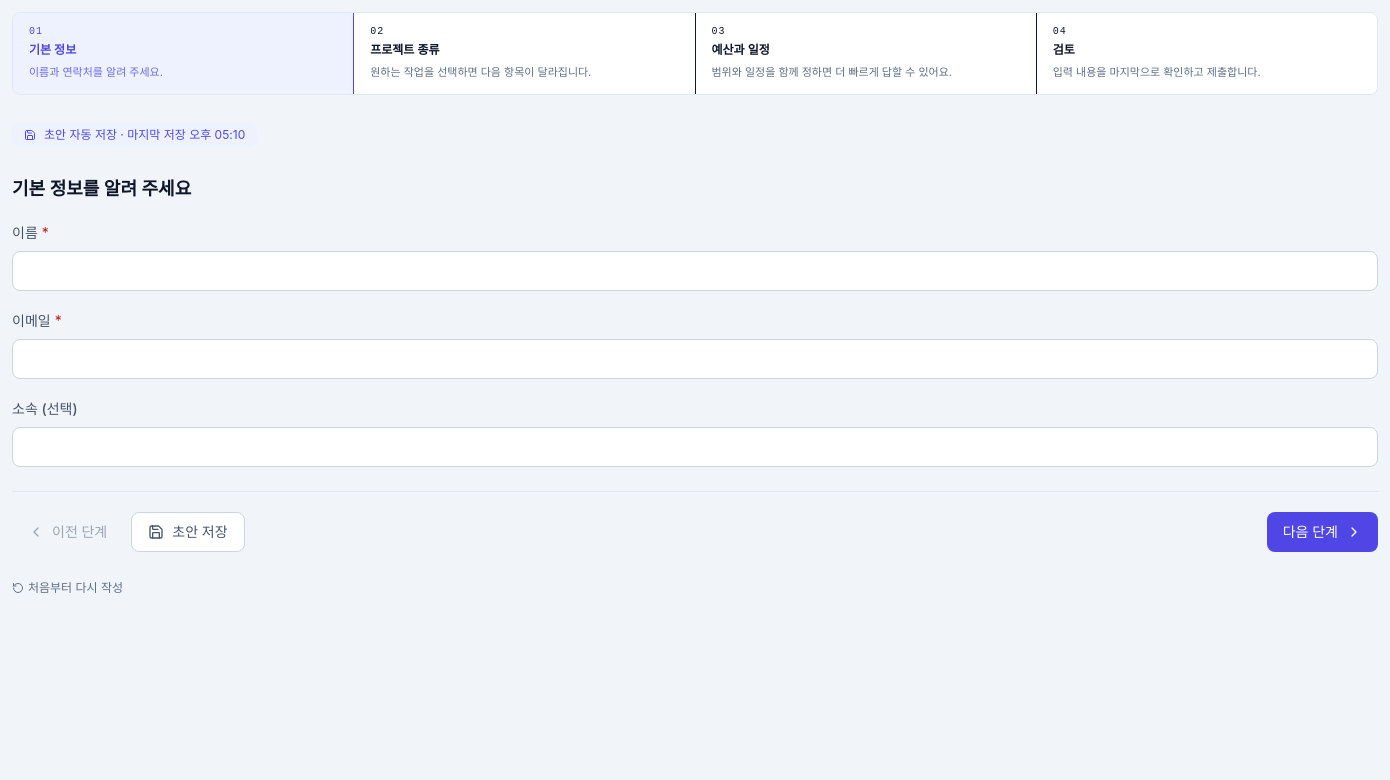
Test: 기본 정보를 채우면 다음 단계의 제목이 나타난다
Type "샘플" into the field labelled "이름". click: (695, 271)
box: [12,251,1378,291]
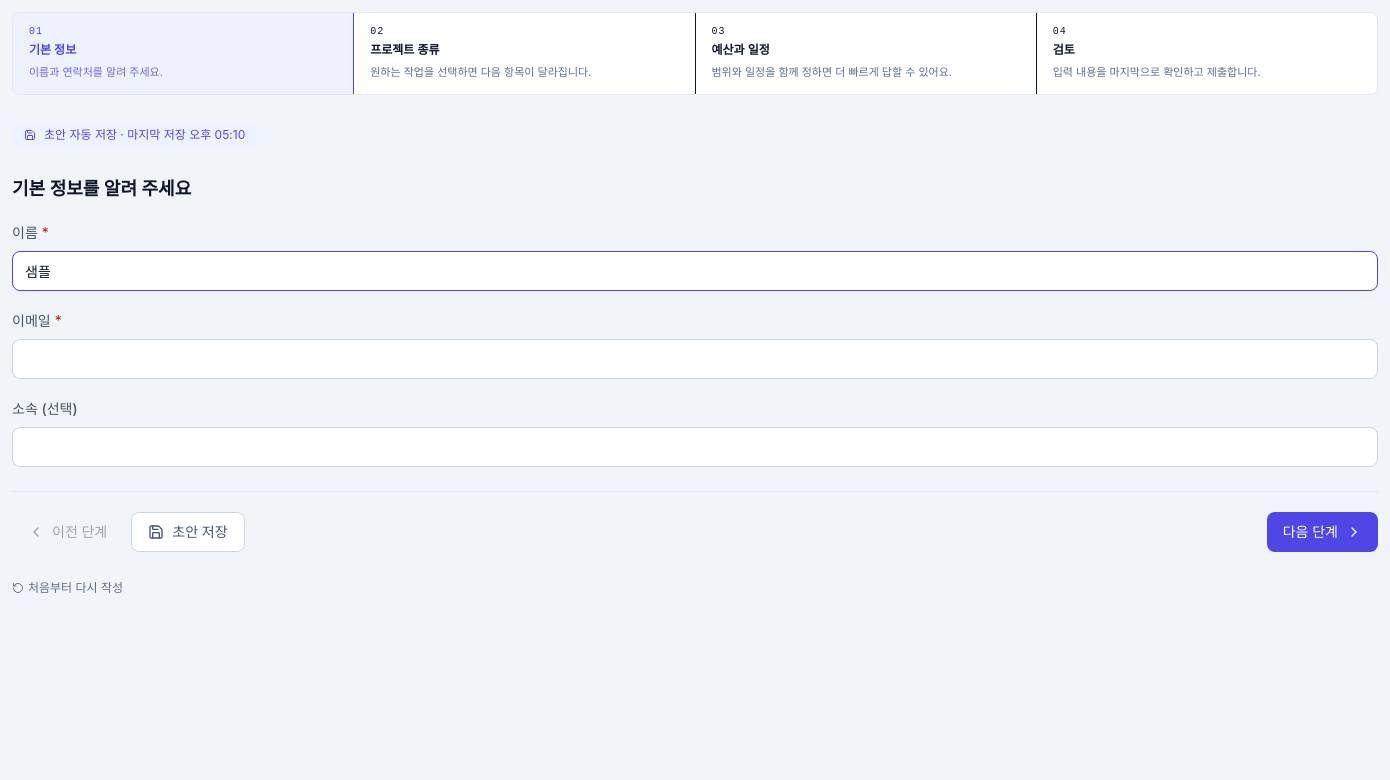
Type "sample@example.com" into the field labelled "이메일". click: (695, 359)
box: [12,339,1378,379]
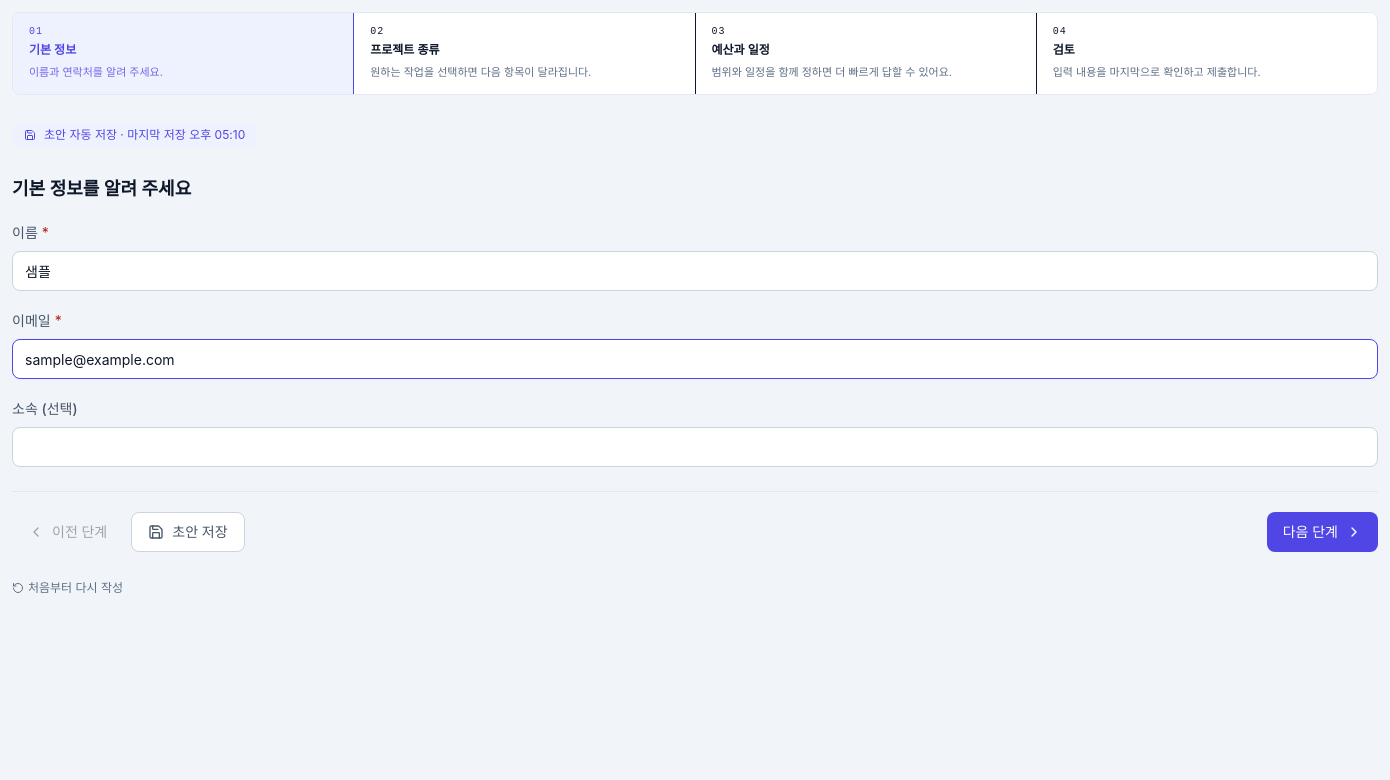
Click the button "다음 단계". click: (1322, 532)
box: [1267,512,1378,552]
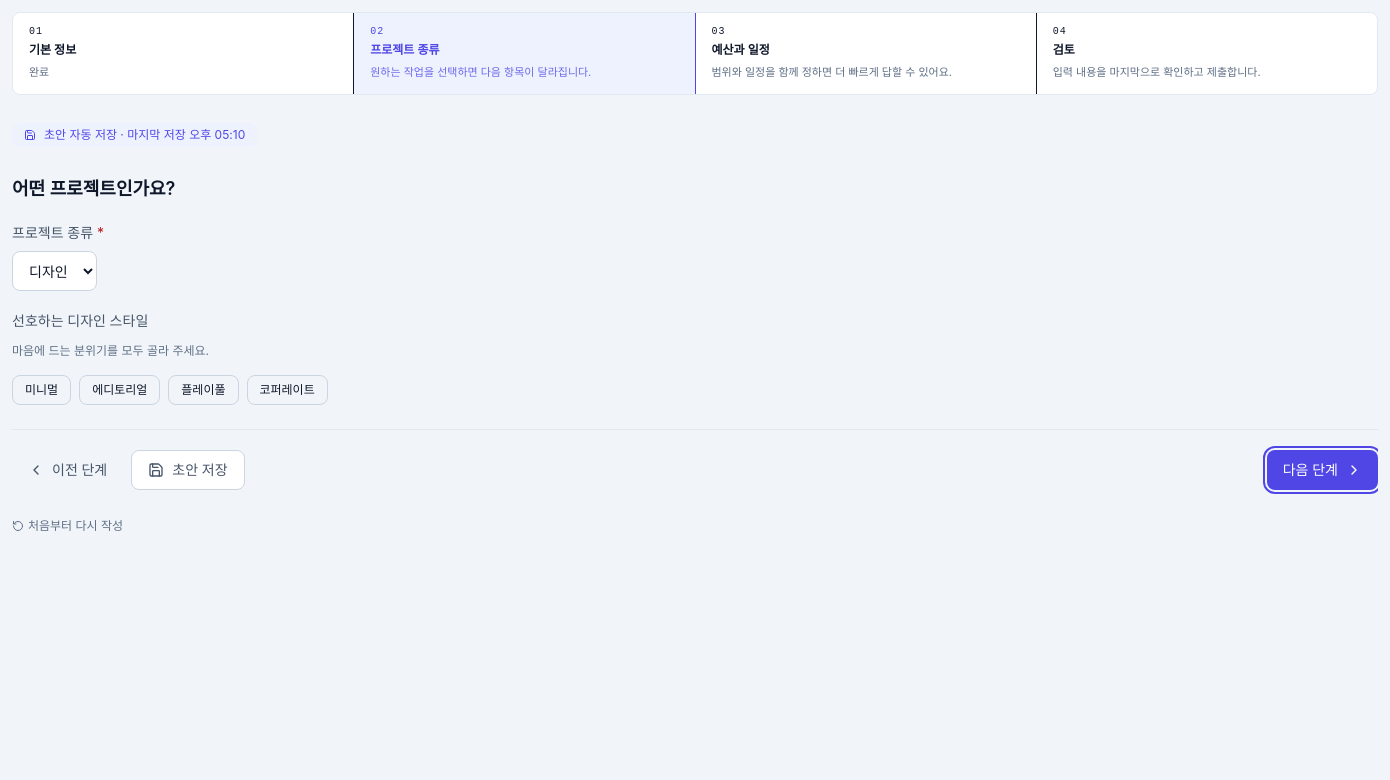
Expected: the text "어떤 프로젝트인가요?" is shown, [12,175,175,203]
